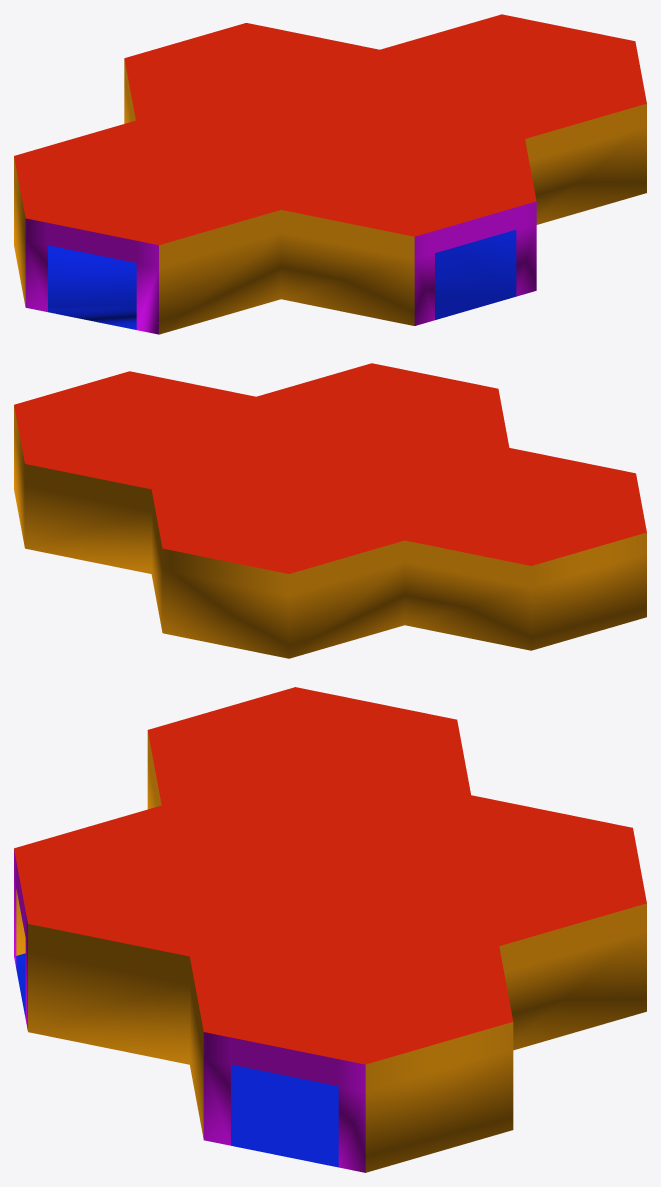
Rendered from FantasyForest.fbx.
The picture shows the model from 3 angles, top to bottom: view 1: azimuth 30°, elevation 25°; view 2: azimuth 150°, elevation 25°; view 3: azimuth 270°, elevation 25°; orthographic projection. The views are drawn at different scales.
Visible parts, largest first — view 1: Museum_complete_Blockout:Fantasy_Forest4; view 2: Museum_complete_Blockout:Fantasy_Forest4; view 3: Museum_complete_Blockout:Fantasy_Forest4.
Boxes of the visible parts, bbox=[...] form: Museum_complete_Blockout:Fantasy_Forest4: bbox=[14, 14, 646, 334]; Museum_complete_Blockout:Fantasy_Forest4: bbox=[14, 363, 646, 658]; Museum_complete_Blockout:Fantasy_Forest4: bbox=[14, 687, 646, 1172].
Bounding box in the file's own units: 10259 × 1372 × 7269.
